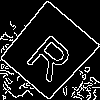R: (23, 26, 81, 84)
